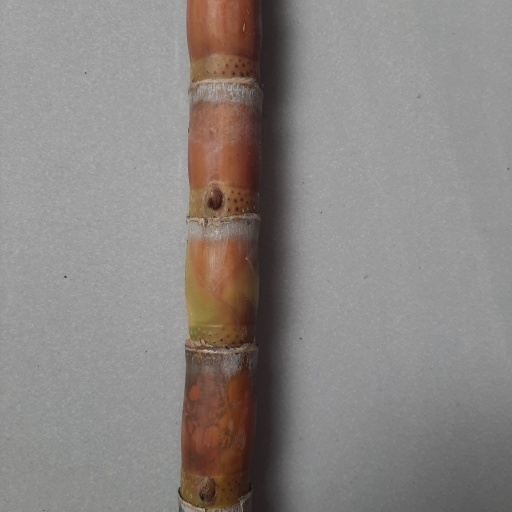Bud: (202, 185, 225, 213), (198, 477, 218, 505)
